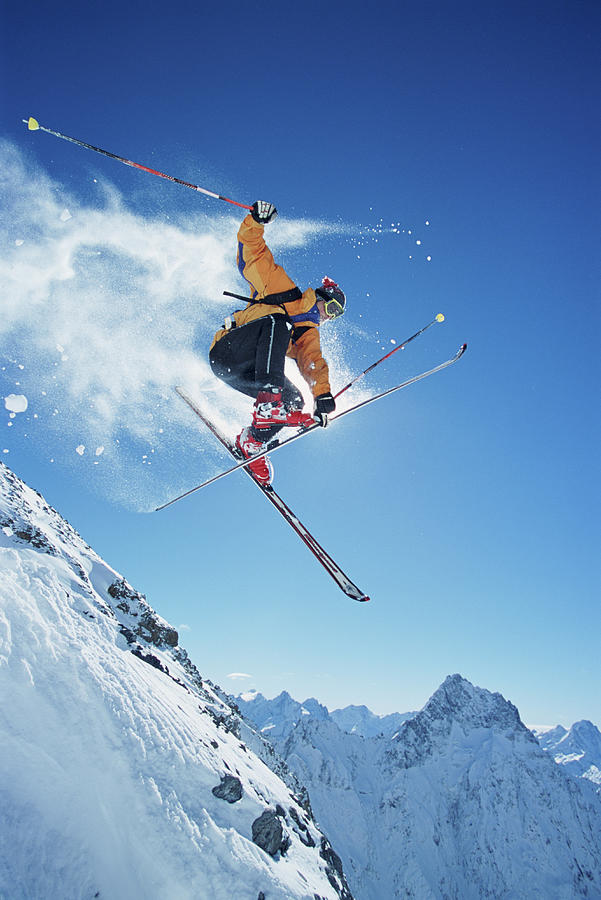skier: (4, 94, 487, 615)
